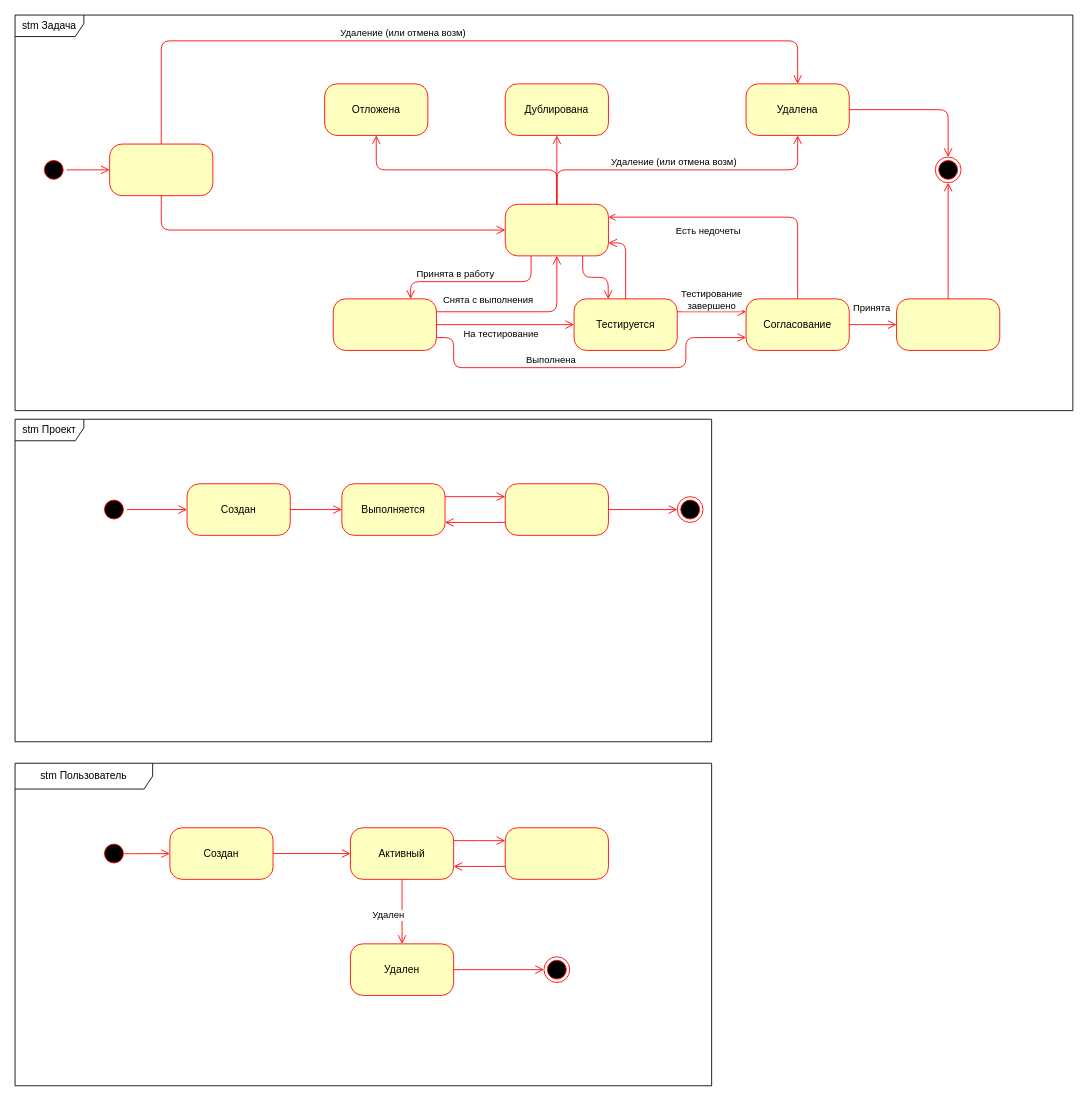
This 1088x1101 diagram has some shape labels left out. Each missing label, with the centre of its shape:
"Завершена" belongs at (948,324).
"Закрыт" belongs at (556,509).
"Назанчена" belongs at (556,229).
"Неактивный" belongs at (556,853).
"Разработка" belongs at (384,324).
"Создана" belongs at (161,169).
